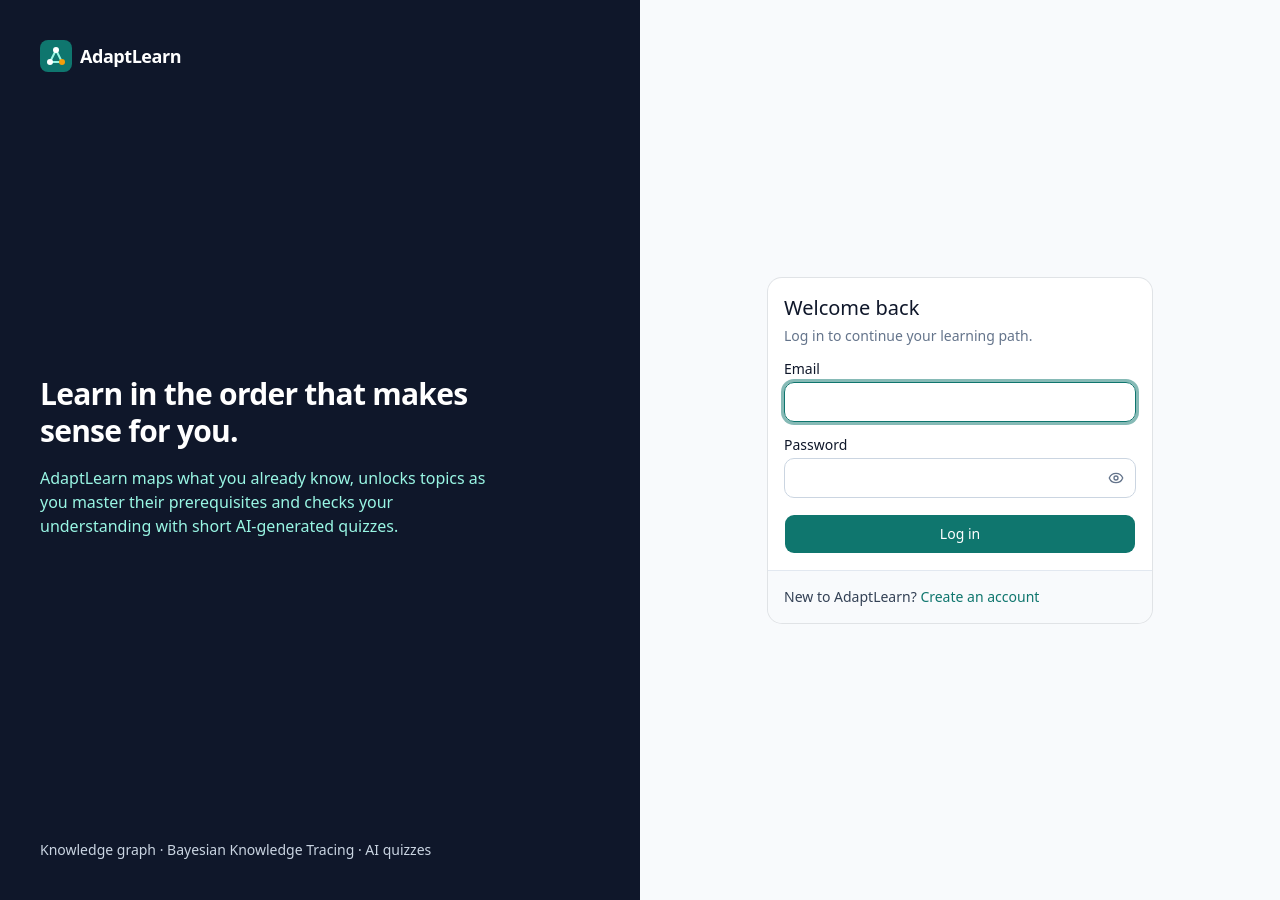
it: form › checks the fields before sending anything, and focuses the first problem
Step 1. Click the button "Log in" → (960, 534), box [784, 514, 1136, 554]
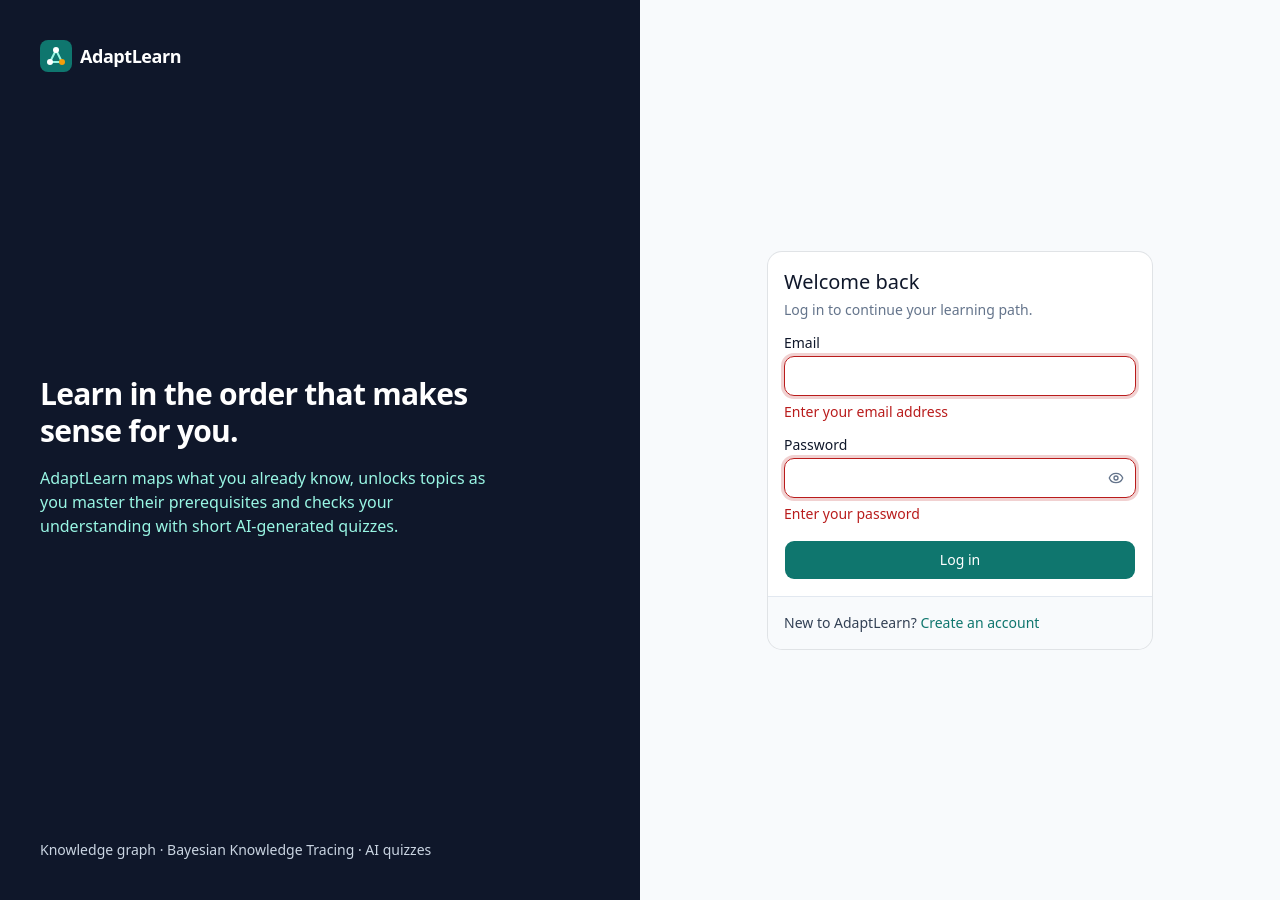
Now the text "Enter your email address" is shown, box [784, 402, 948, 420]
Now the text "Enter your password" is shown, box [784, 504, 920, 522]
